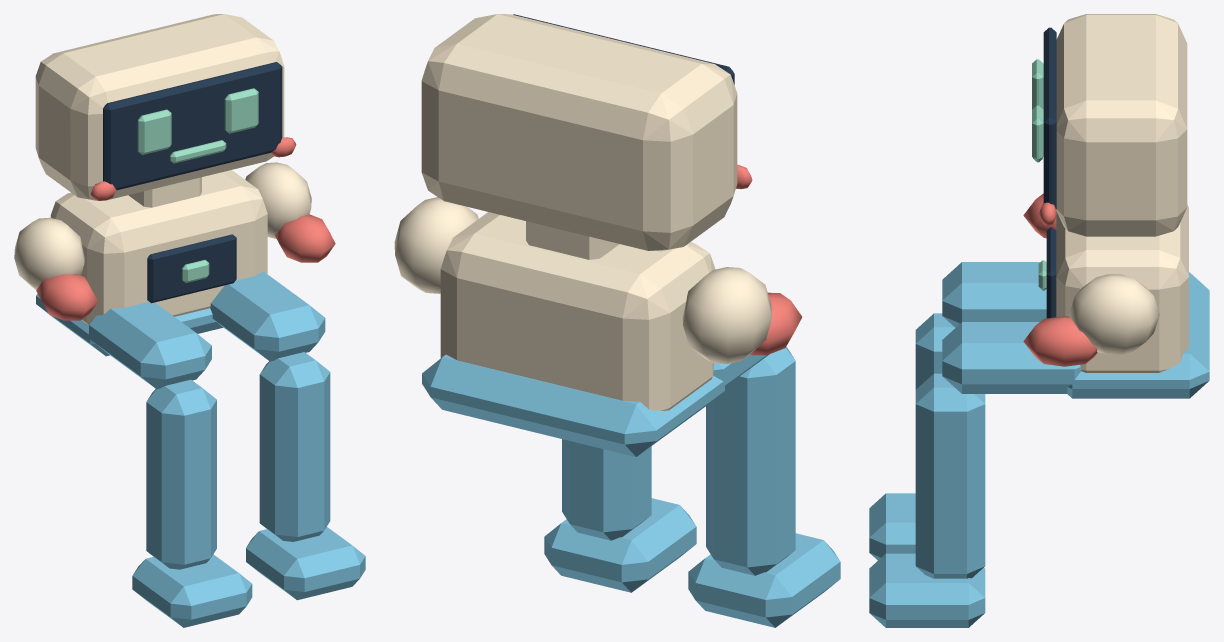
Rendered from robot-passenger.glb.
3 renders of one model, left to right at view 1: azimuth 30°, elevation 25°; view 2: azimuth 150°, elevation 25°; view 3: azimuth 270°, elevation 25°, orthographic. The views are drawn at different scales.
Parts seen in each view (by area): view 1: robot-passenger; view 2: robot-passenger; view 3: robot-passenger.
Boxes of the visible parts, left/top/right/bottom form: robot-passenger: left=14, top=14, right=365, bottom=627; robot-passenger: left=394, top=14, right=840, bottom=627; robot-passenger: left=869, top=14, right=1209, bottom=627.
Size of the model in its own units: 0.6229 by 1 by 0.5871.
